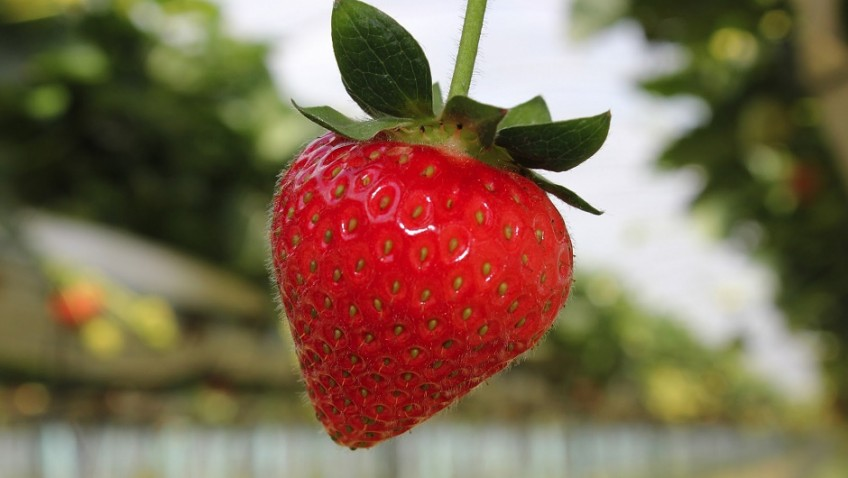ripe: (272, 125, 578, 455)
